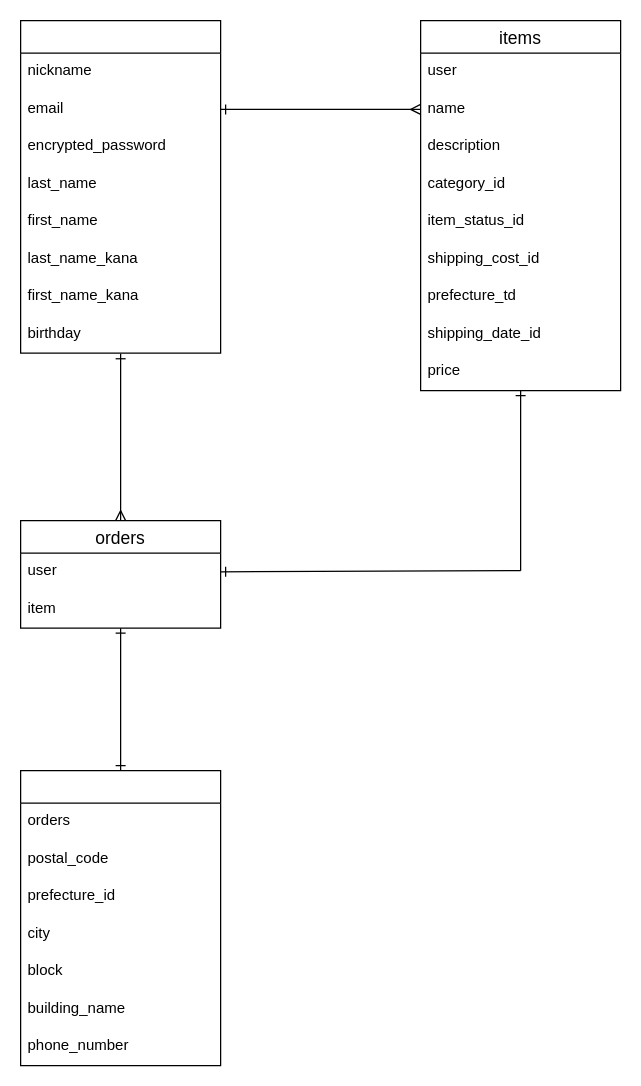
The diagram is 641 pixels wide and 1086 high, and some of its shapes have lost their labels. Each missing label, with the box of its shape:
delivery_addresses: (19, 769, 221, 1066)
users: (19, 19, 221, 353)
